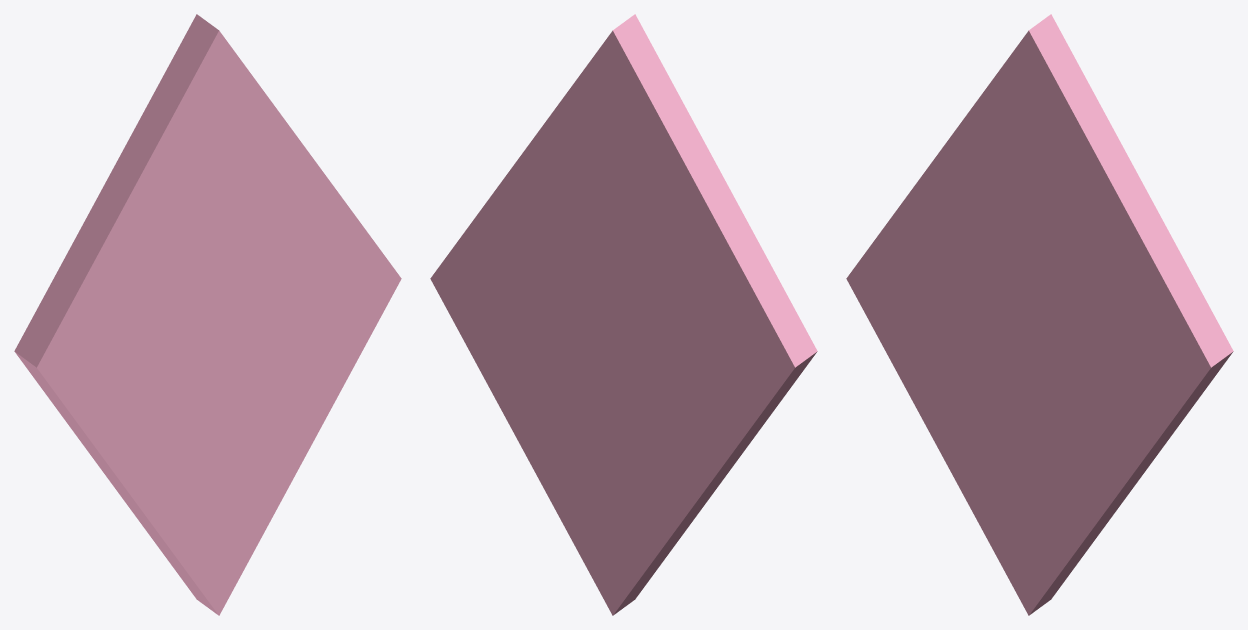
File: badge_coral_reef.glb
The picture shows the model from 3 angles, left to right: view 1: azimuth 30°, elevation 25°; view 2: azimuth 150°, elevation 25°; view 3: azimuth 330°, elevation 25°; orthographic projection.
Parts seen in each view (by area): view 1: badge; view 2: badge; view 3: badge.
Boxes of the visible parts, bbox=[...] form: badge: bbox=[14, 14, 401, 615]; badge: bbox=[430, 14, 817, 615]; badge: bbox=[846, 14, 1233, 615].
Size of the model in its own units: 1.5 by 2.3 by 0.16.
